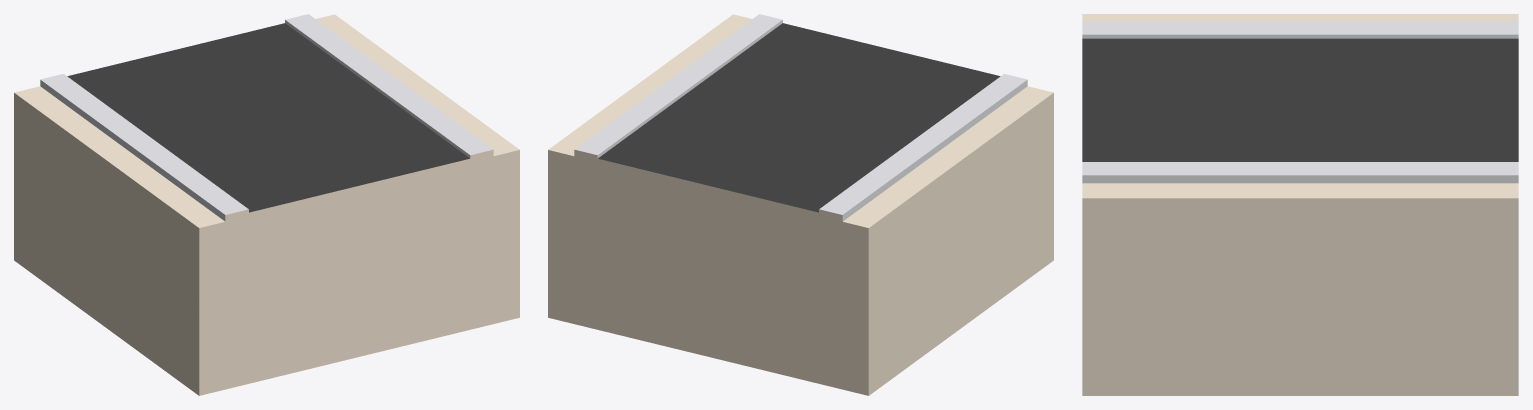
Rendered from roadStraightBridge.obj.
The picture shows the model from 3 angles, left to right: view 1: azimuth 30°, elevation 25°; view 2: azimuth 150°, elevation 25°; view 3: azimuth 270°, elevation 25°; orthographic projection. The views are drawn at different scales.
Parts seen in each view (by area): view 1: roadStraightBridge; view 2: roadStraightBridge; view 3: roadStraightBridge.
Boxes of the visible parts, <box> form: roadStraightBridge: <box>14,14,519,395</box>; roadStraightBridge: <box>548,14,1053,395</box>; roadStraightBridge: <box>1082,14,1518,395</box>.
Bounding box in the file's own units: 1 × 0.52 × 1.
